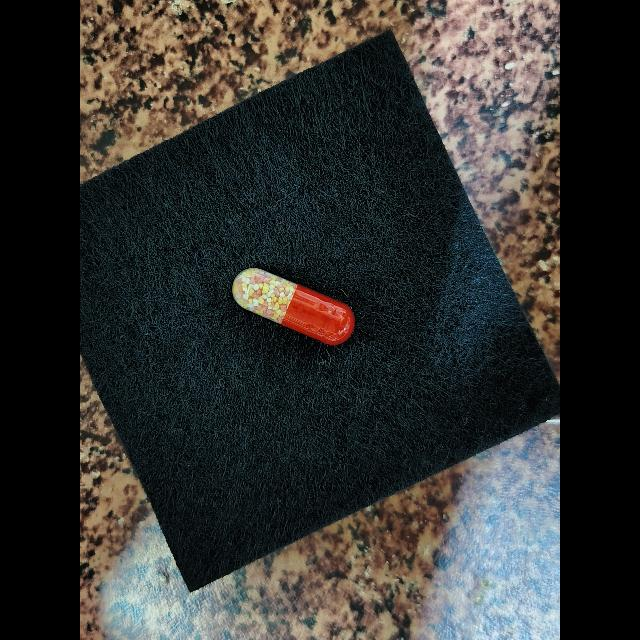Intact Capsule: (233, 268, 355, 345)
